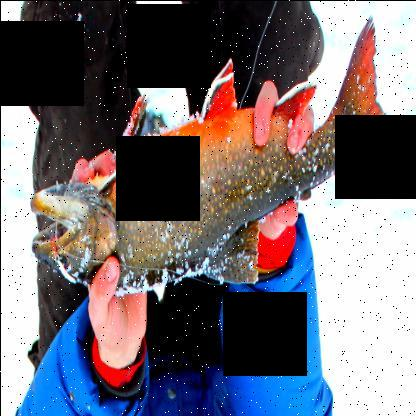fish: (31, 17, 400, 292)
